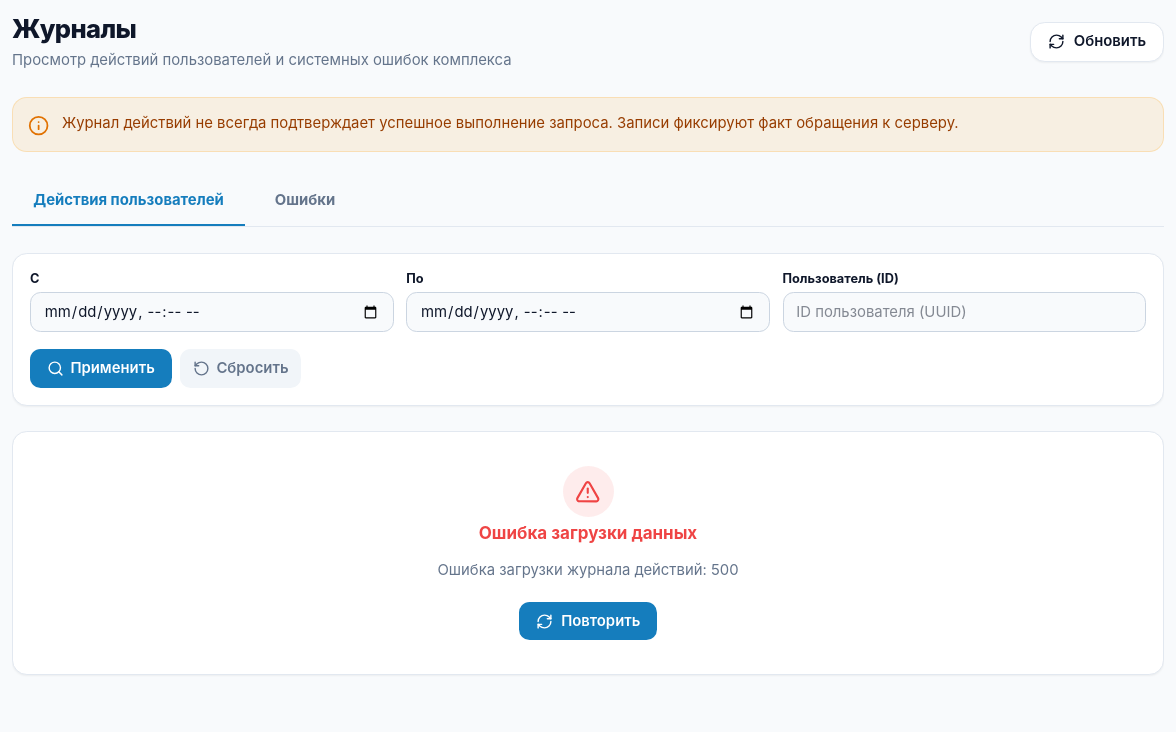
Scenario: Admin Logs Page and Navigation › distinguishes error state from empty state and supports retry
Expected: the heading "Ошибка загрузки данных" is shown, [479,523,697,543]
Expected: the text "Записей не найдено" is not shown
Click the button "Повторить" at (588, 621), box [519,602,657,640]
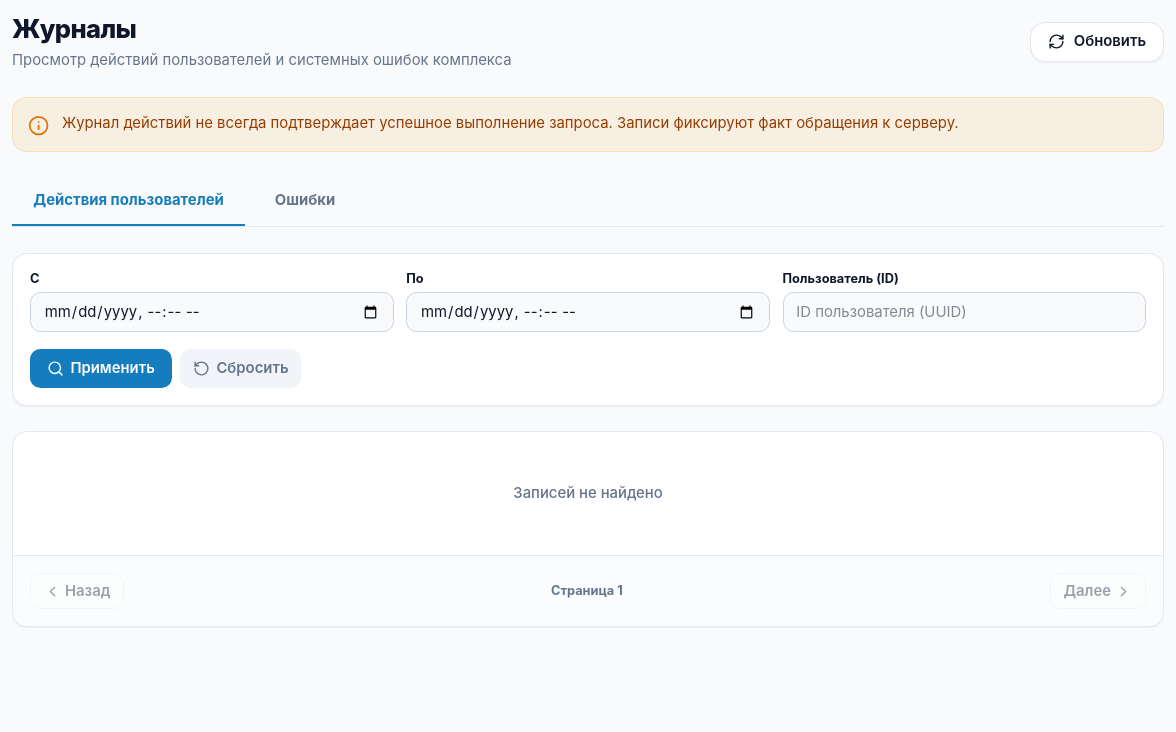
Now the text "Записей не найдено" is shown, box [513,484,663,502]
